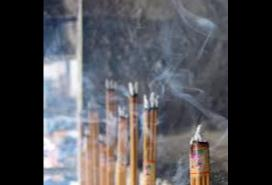controlled_fire: (62, 69, 208, 146)
